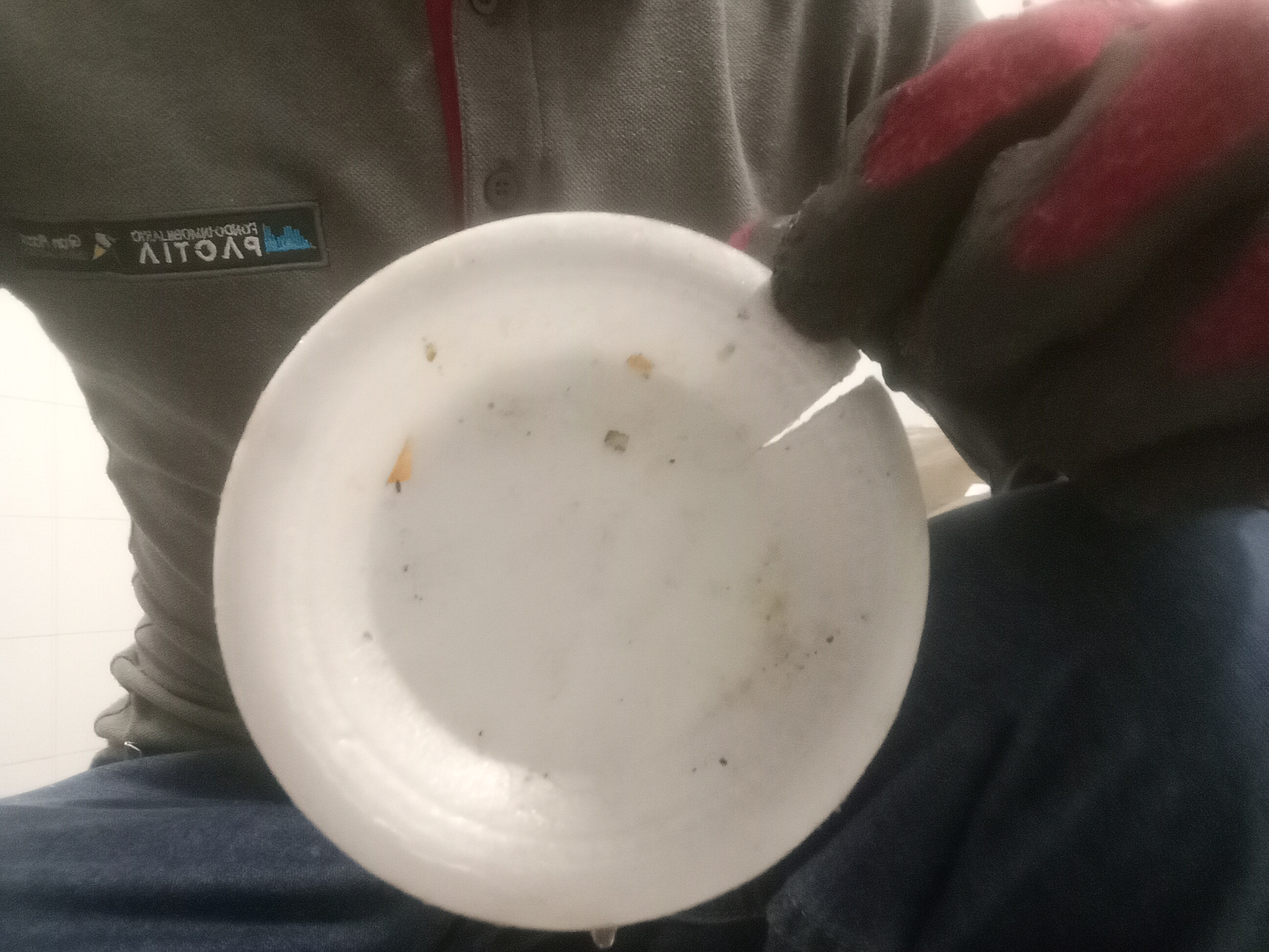Ordinario: (210, 212, 931, 932)
